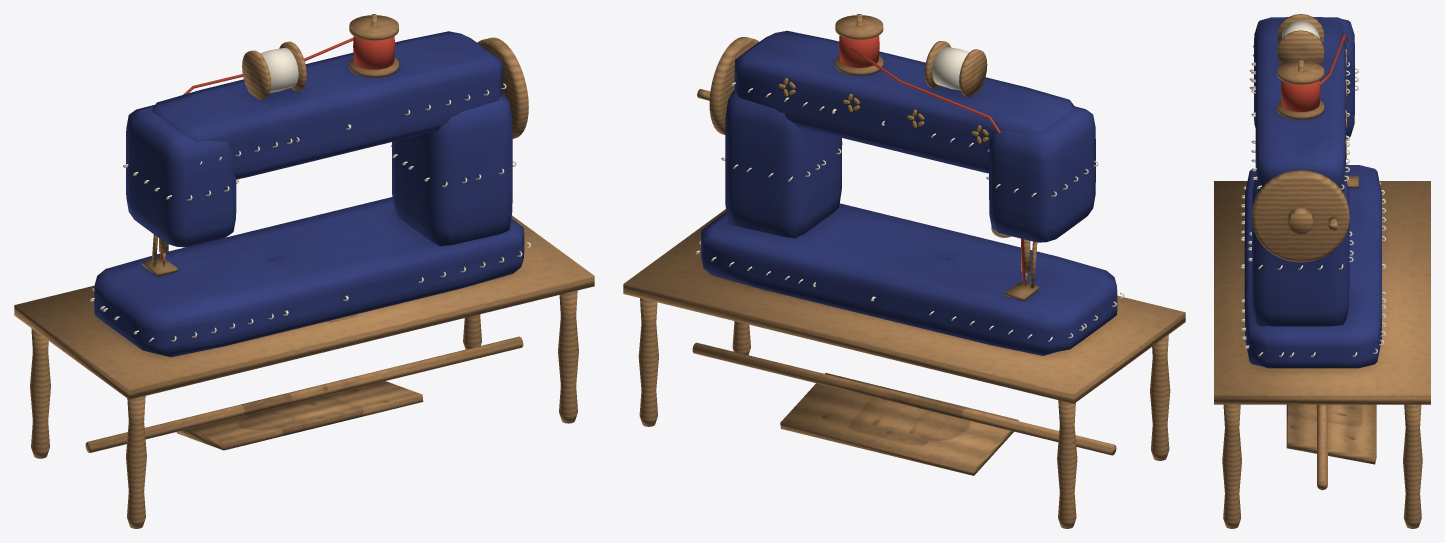
Rendered from craft_machine.glb.
3 views of the same model, side by side, from view 1: azimuth 30°, elevation 25°; view 2: azimuth 150°, elevation 25°; view 3: azimuth 270°, elevation 25° (orthographic). The views are drawn at different scales.
Parts seen in each view (by area): view 1: craft_machine_body, craft_machine_wood, craft_machine_yarn, craft_machine_cream, craft_machine_stitch; view 2: craft_machine_body, craft_machine_wood, craft_machine_yarn, craft_machine_cream, craft_machine_stitch; view 3: craft_machine_wood, craft_machine_body, craft_machine_stitch, craft_machine_yarn, craft_machine_cream.
Boxes of the visible parts, left/top/right/bottom form: craft_machine_body: left=94, top=31, right=524, bottom=357; craft_machine_wood: left=14, top=14, right=594, bottom=528; craft_machine_yarn: left=160, top=36, right=395, bottom=258; craft_machine_cream: left=260, top=48, right=298, bottom=92; craft_machine_stitch: left=89, top=83, right=530, bottom=342; craft_machine_body: left=701, top=30, right=1117, bottom=355; craft_machine_wood: left=623, top=14, right=1185, bottom=528; craft_machine_yarn: left=839, top=35, right=1025, bottom=281; craft_machine_cream: left=932, top=46, right=969, bottom=90; craft_machine_stitch: left=695, top=82, right=1124, bottom=341; craft_machine_wood: left=1214, top=14, right=1430, bottom=528; craft_machine_body: left=1244, top=17, right=1381, bottom=368; craft_machine_stitch: left=1240, top=45, right=1386, bottom=357; craft_machine_yarn: left=1281, top=34, right=1348, bottom=112; craft_machine_cream: left=1281, top=20, right=1319, bottom=38.
Bounding box in the file's own units: 4.2 × 3.6 × 1.8.
Materials: 7 (3 with a texture image).
